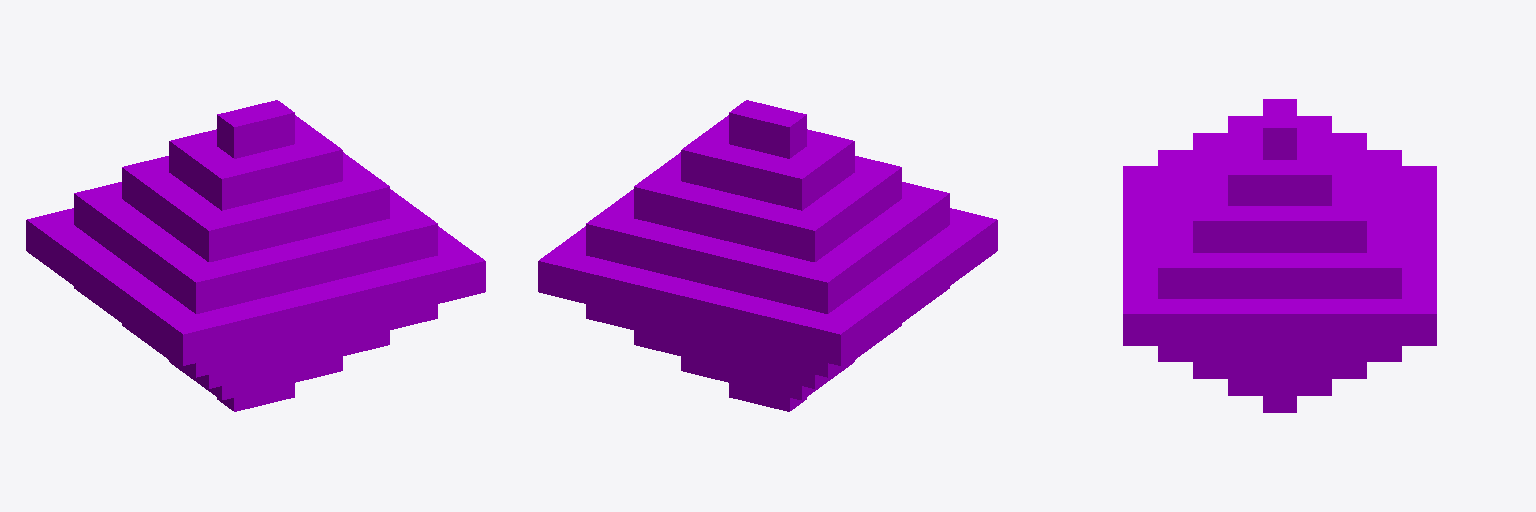
3 renders of one model, left to right at view 1: azimuth 30°, elevation 25°; view 2: azimuth 150°, elevation 25°; view 3: azimuth 270°, elevation 25°, orthographic.
Visible parts, largest first — view 1: PurpleKey; view 2: PurpleKey; view 3: PurpleKey.
Boxes of the visible parts, x1=… form: PurpleKey: x1=26, y1=100, x2=485, y2=411; PurpleKey: x1=538, y1=100, x2=997, y2=411; PurpleKey: x1=1123, y1=99, x2=1436, y2=412.
Size of the model in its own units: 1 by 0.9 by 0.9.
Materials: 1 (1 with a texture image).